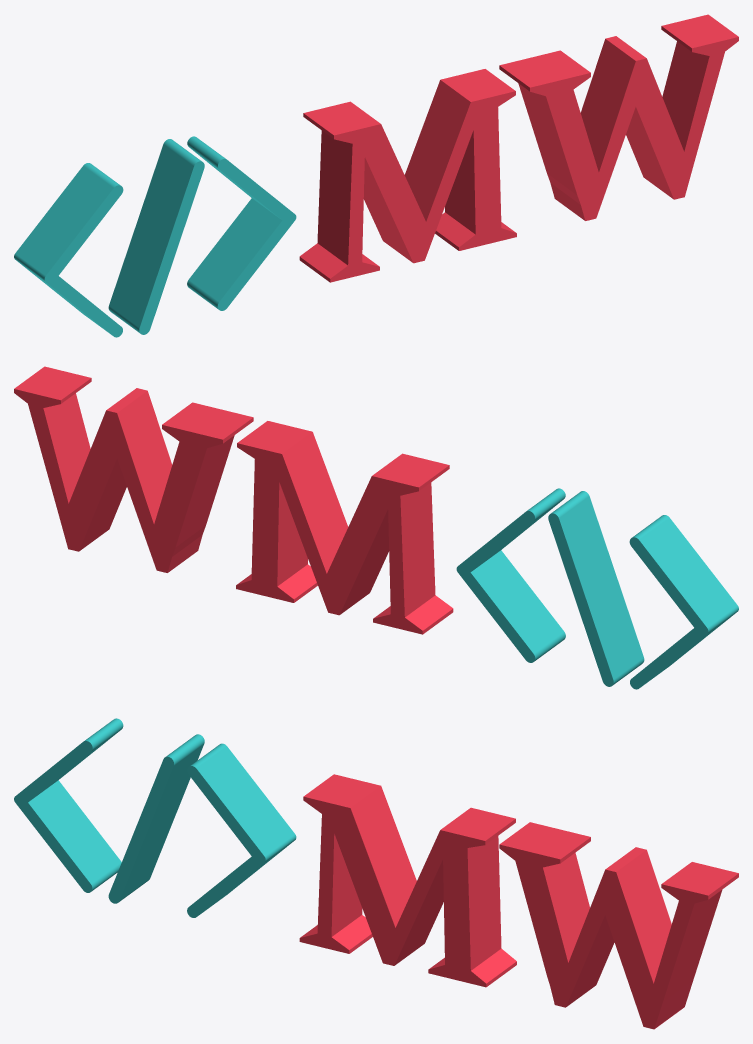
3 views of the same model, one above another, from view 1: azimuth 30°, elevation 25°; view 2: azimuth 150°, elevation 25°; view 3: azimuth 330°, elevation 25° (orthographic).
Parts seen in each view (by area): view 1: Body4, Body5, Body2, Body3, Body1; view 2: Body4, Body5, Body2, Body3, Body1; view 3: Body4, Body5, Body3, Body1, Body2.
Boxes of the visible parts, x1,y1,x2,y2 form: Body4: (299,69,516,282); Body5: (499,14,738,220); Body2: (108,139,204,334); Body3: (187,136,296,310); Body1: (14,163,123,337); Body4: (236,421,453,634); Body5: (14,366,253,572); Body2: (548,491,644,686); Body3: (456,488,565,662); Body1: (629,515,738,689); Body4: (299,774,516,987); Body5: (499,822,738,1029); Body3: (187,743,296,917); Body1: (14,718,123,892); Body2: (108,734,204,903).
Bounding box in the file's own units: 13.09 × 2.88 × 1.
